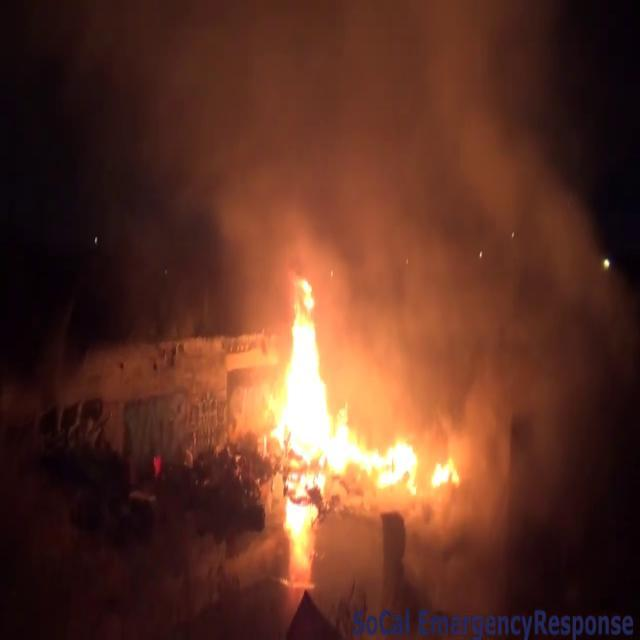Fire: (260, 270, 460, 554)
Smoke: (148, 0, 626, 386)
